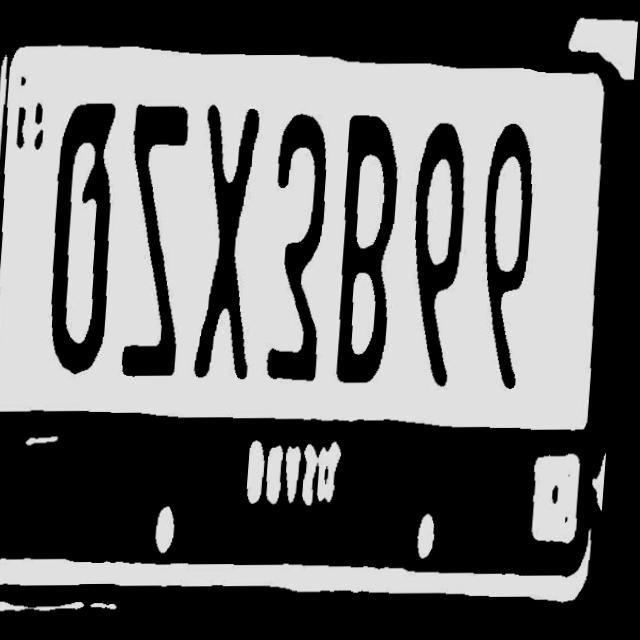3: (266, 109, 340, 385)
6: (467, 117, 546, 394), (406, 120, 476, 390)
b: (333, 111, 413, 388)
q: (43, 98, 127, 379)
x: (190, 102, 272, 387)
z: (116, 100, 198, 385)
